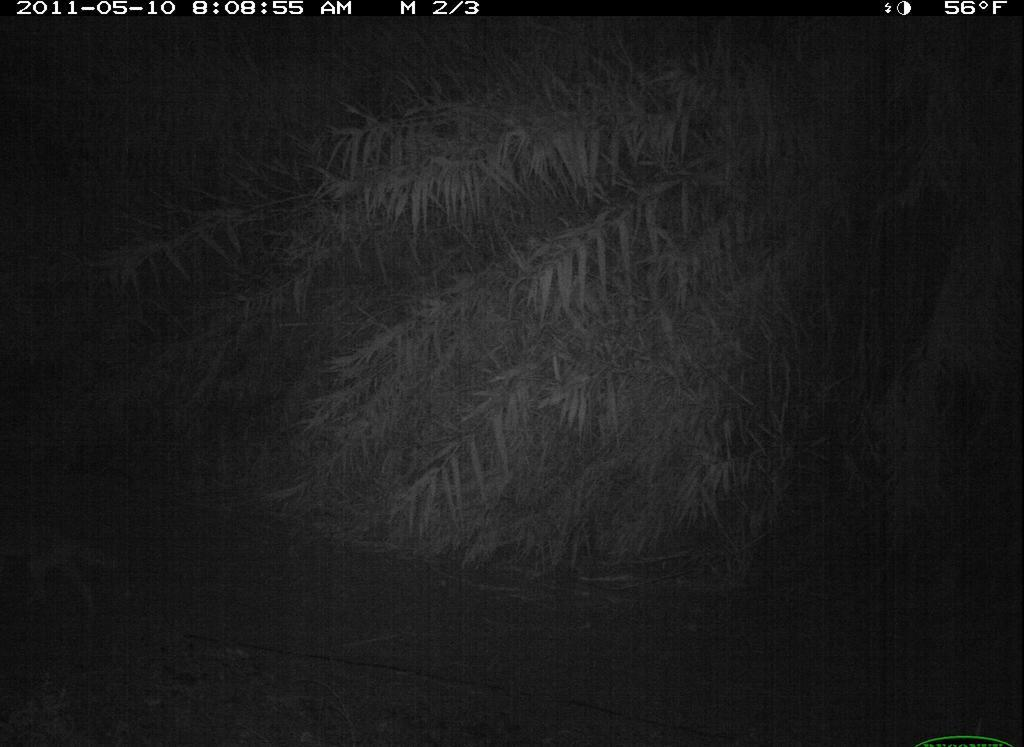coyote: (2, 507, 130, 626)
